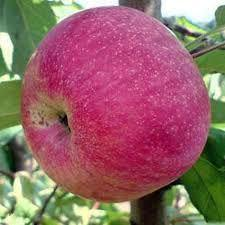Apple: (22, 6, 210, 202)
